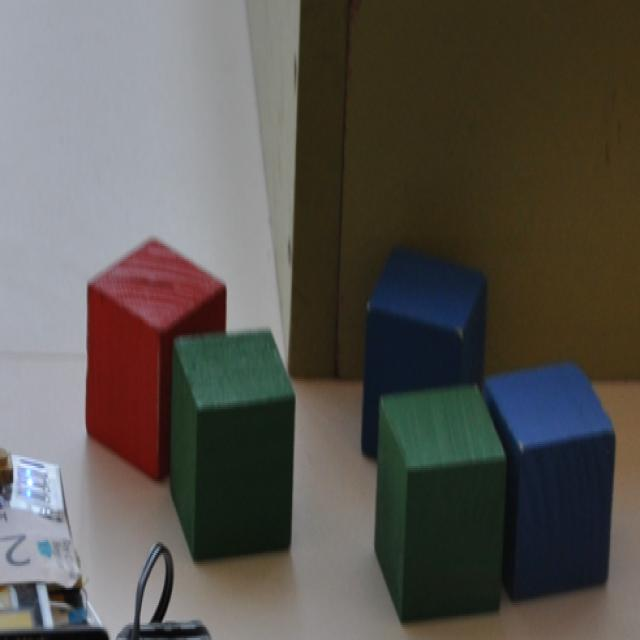bluecube: (485, 359, 613, 602), (360, 239, 490, 460)
green cube: (371, 382, 505, 625), (167, 327, 295, 564)
red cube: (85, 235, 228, 482)
